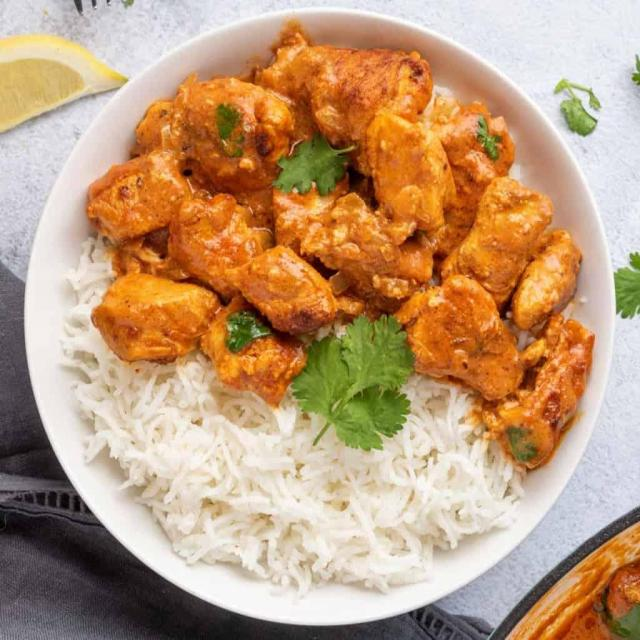chicken: (105, 48, 592, 390)
rice: (72, 351, 458, 594)
